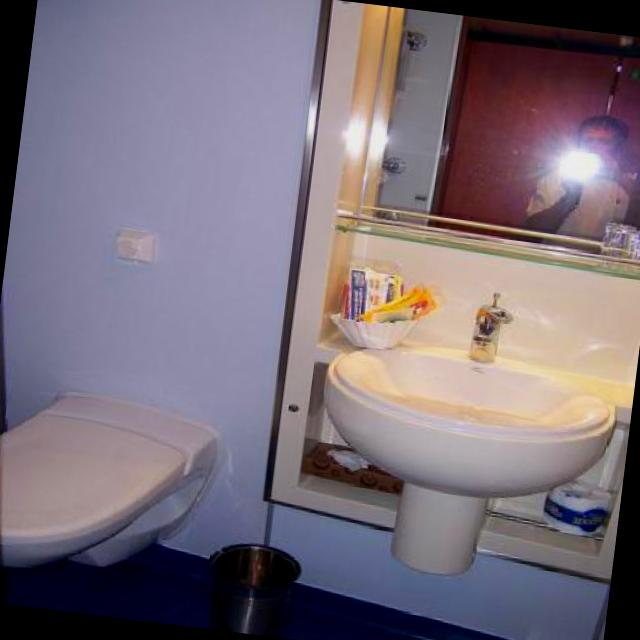Person: (521, 105, 640, 245)
